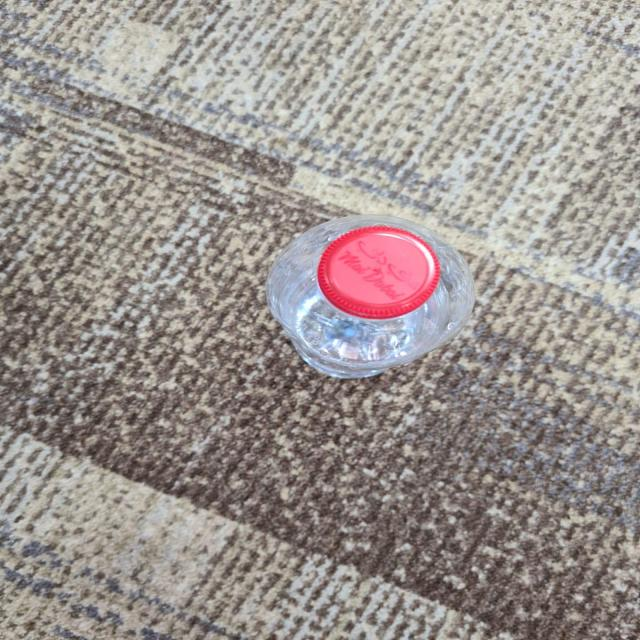bottle: (253, 203, 493, 383)
